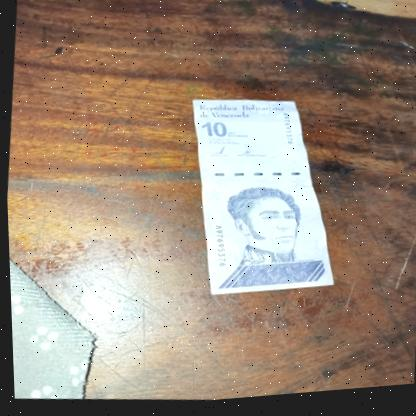ten-front-vef: (173, 91, 350, 313)
